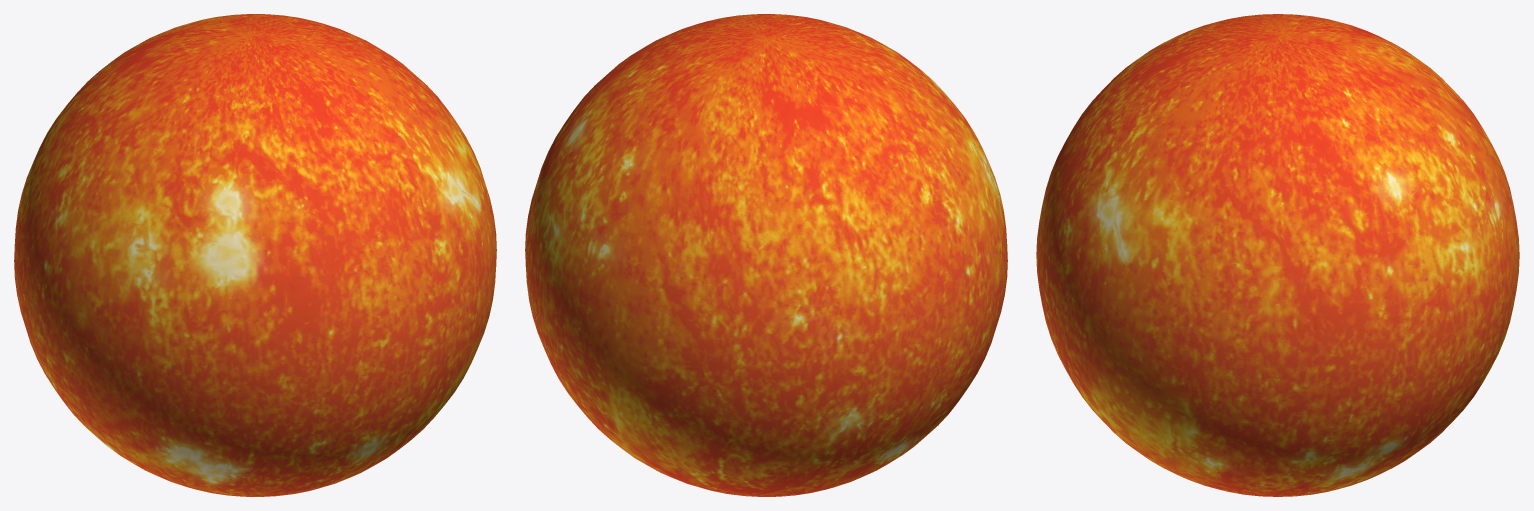
The model's file is AdobeStock_360348561_sun.glb.
3 views of the same model, side by side, from view 1: azimuth 30°, elevation 25°; view 2: azimuth 150°, elevation 25°; view 3: azimuth 270°, elevation 25° (orthographic).
Parts seen in each view (by area): view 1: sun_GEO; view 2: sun_GEO; view 3: sun_GEO.
Part boxes in pixels (x1,y1,x2,y2): sun_GEO: (14,14,496,496); sun_GEO: (525,14,1007,496); sun_GEO: (1036,14,1519,496).
Bounding box in the file's own units: 29.7 × 29.7 × 29.7.
1 material, 1 textured.
